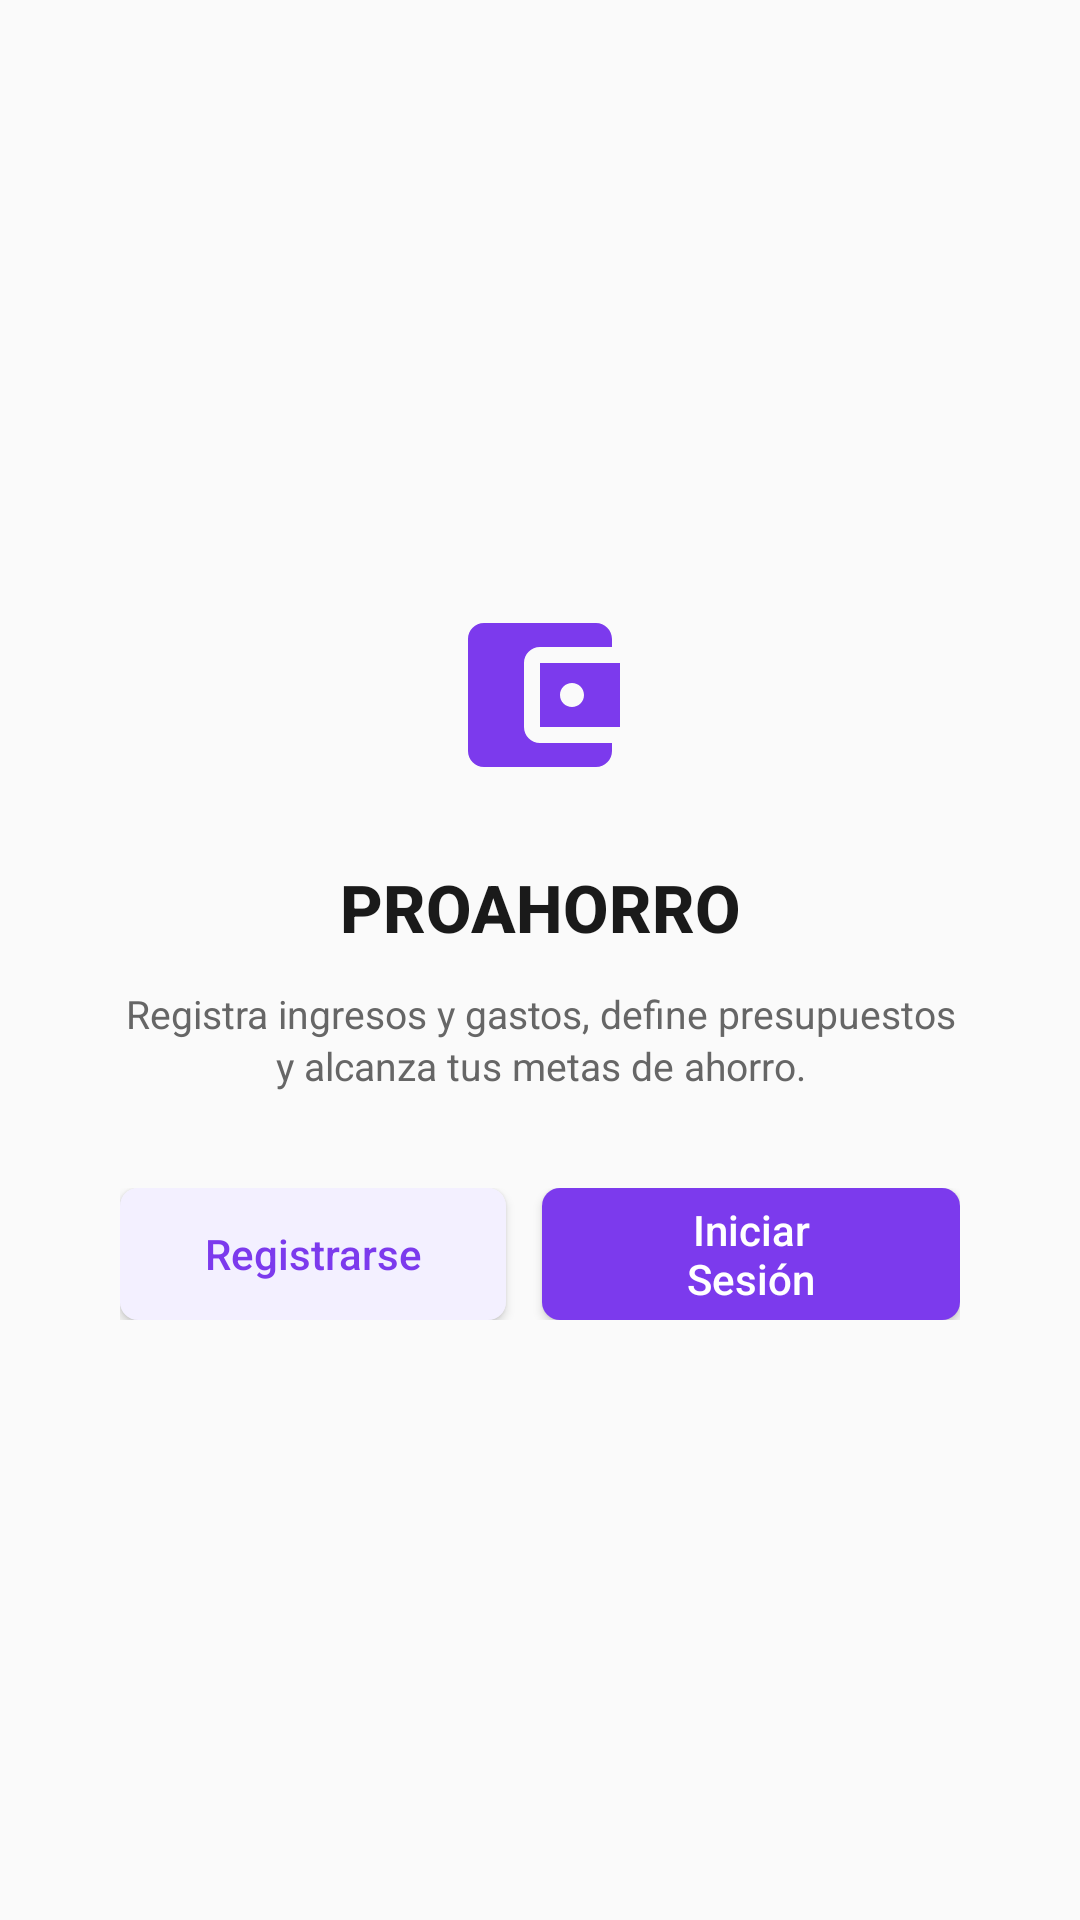

Named icons in this screenshot (1080w x 1920h) and their bounding boxes, BBox(x1, y1, x2, y2):
wallet: BBox(468, 623, 620, 767)
